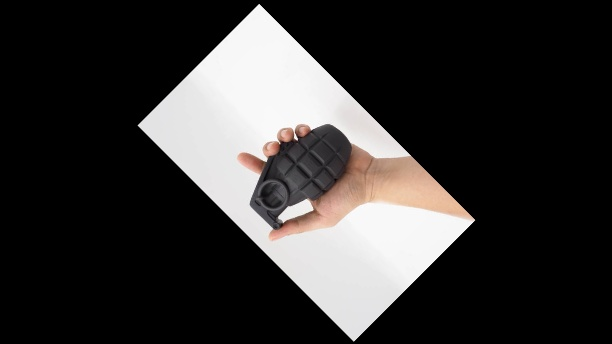e1: (248, 123, 352, 238)
